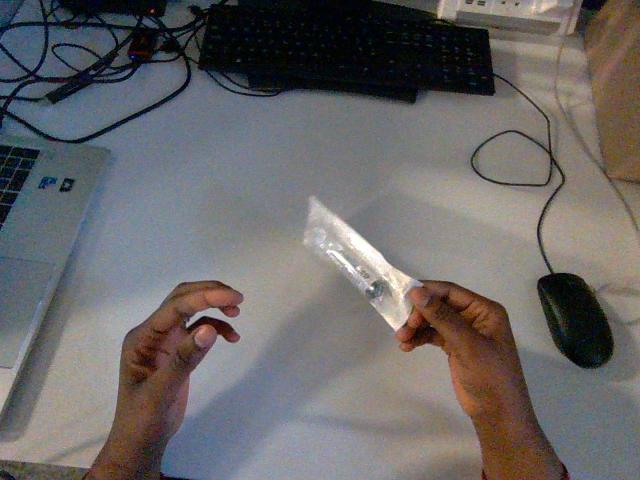syringe: (304, 197, 421, 330)
